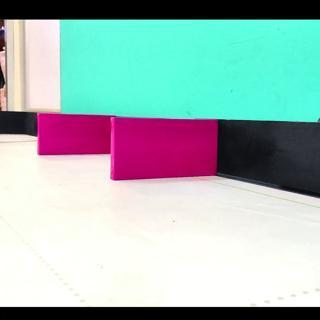xparking: (113, 119, 214, 176), (38, 114, 108, 154)
